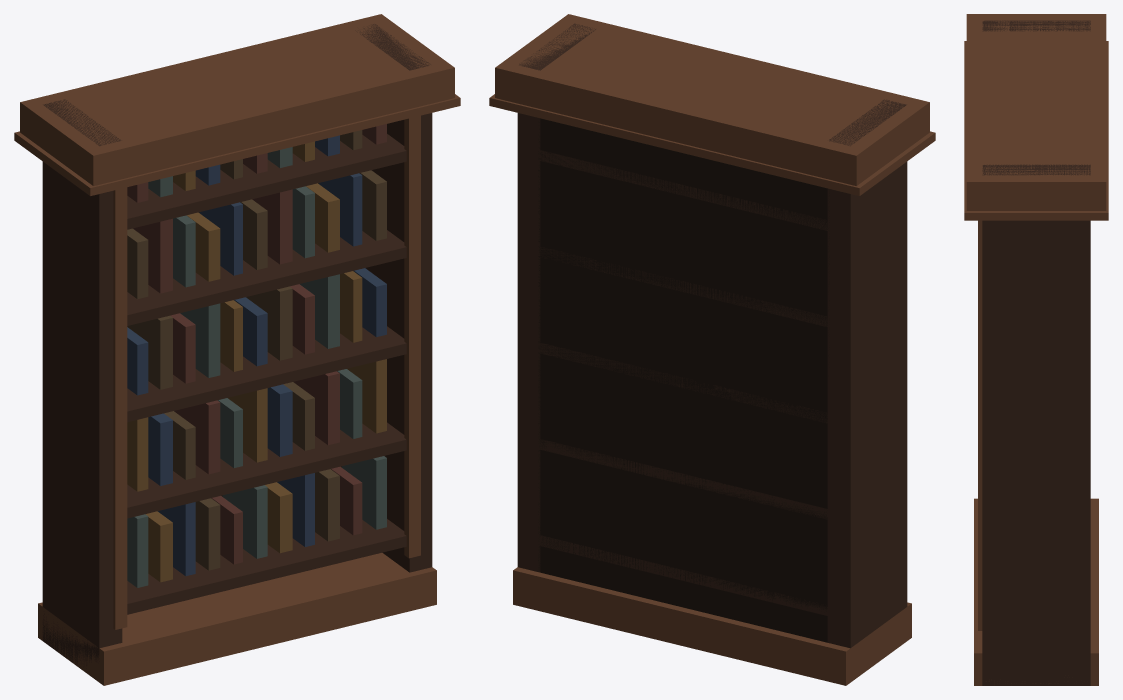
Rendered from bookcase.glb.
3 views of the same model, side by side, from view 1: azimuth 30°, elevation 25°; view 2: azimuth 150°, elevation 25°; view 3: azimuth 270°, elevation 25° (orthographic). The views are drawn at different scales.
Size of the model in its own units: 1.69 by 2.34 by 0.6.
